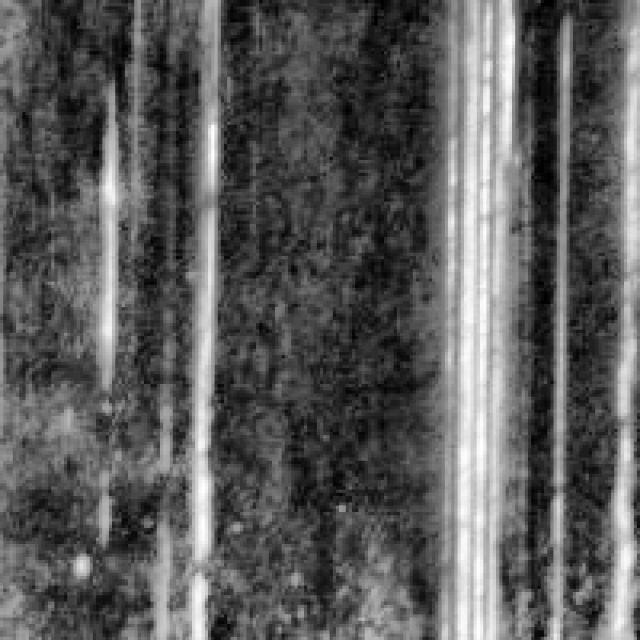Inclusion: (422, 0, 518, 634), (176, 80, 230, 634), (80, 99, 128, 394)
